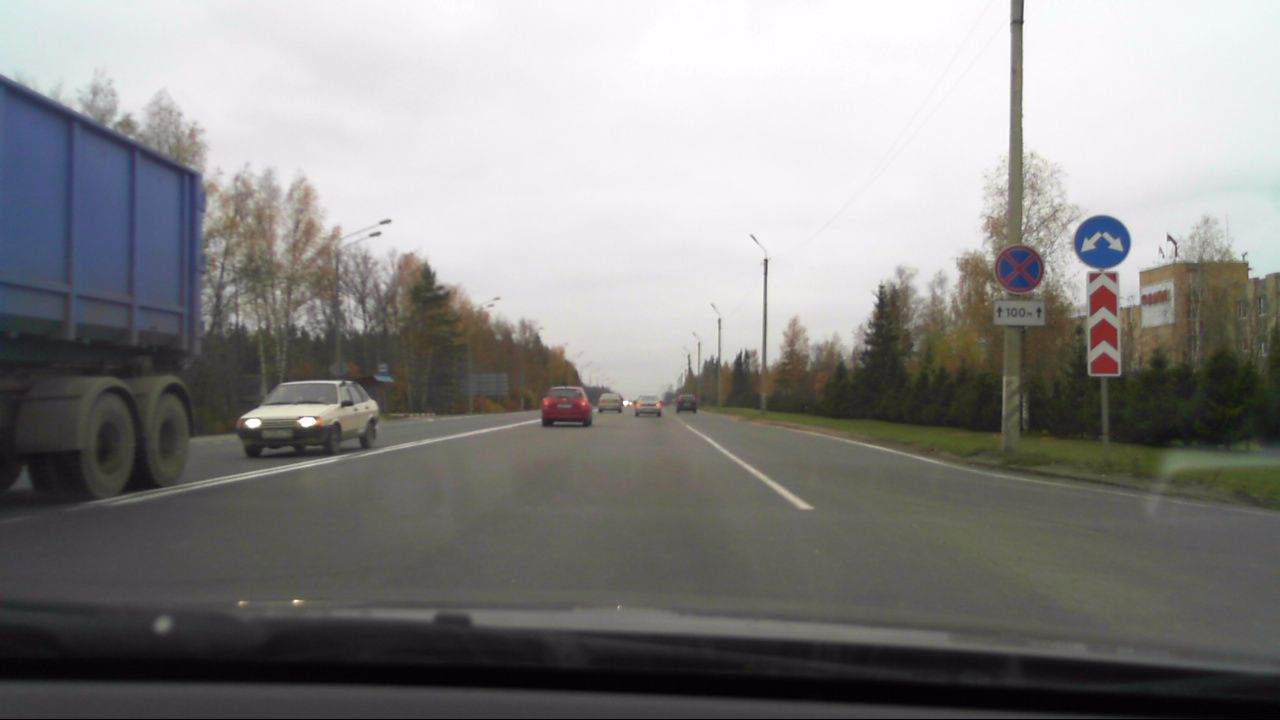No Parking: (994, 244, 1045, 295)
